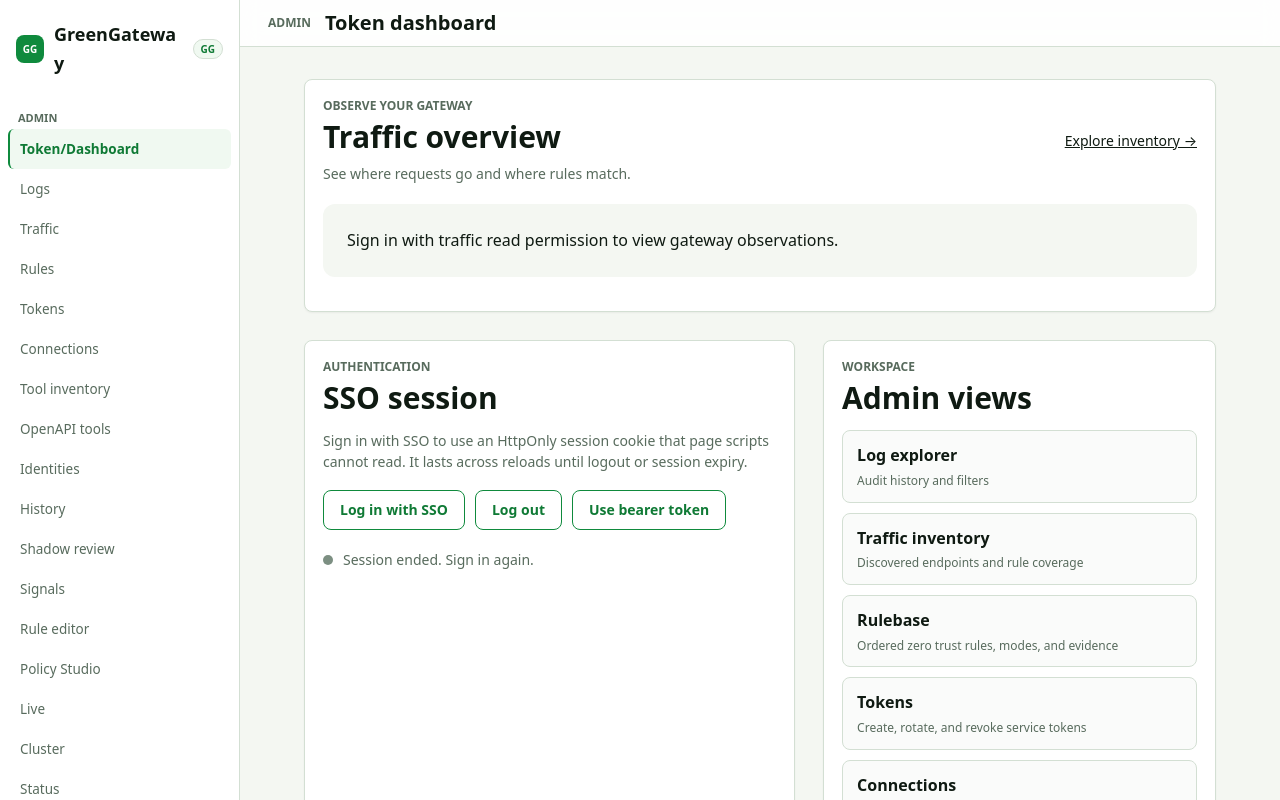
it: AdminShell › reports a discarded session it could not end instead of claiming the completion was discarded
Step 1. Click the button "Use bearer token" → (649, 510), box [572, 490, 726, 530]
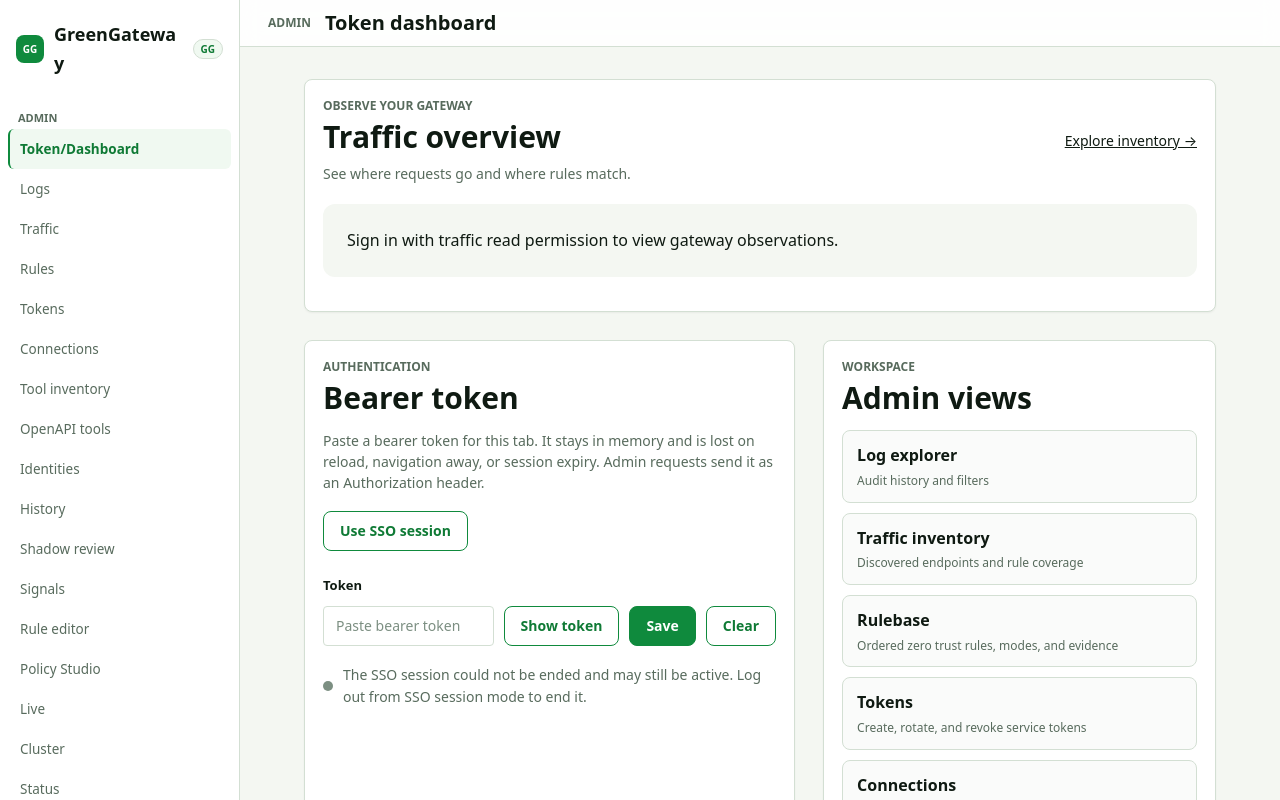
Check: the text "The SSO session could not be ended and may still be active. Log out from SSO session mode to end it." is shown, box [343, 665, 761, 706]
